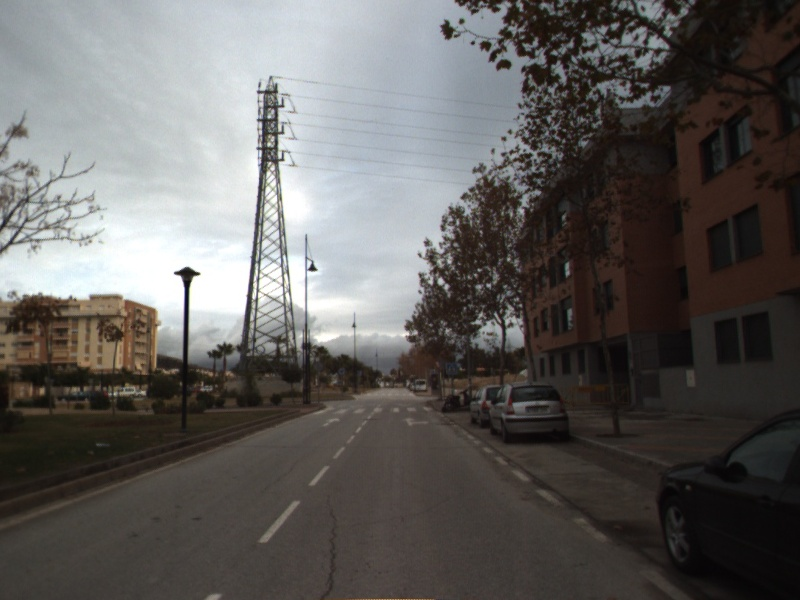STRAIGHT: (320, 416, 343, 428)
STRAIGHT_RIGHT: (400, 415, 431, 428)
